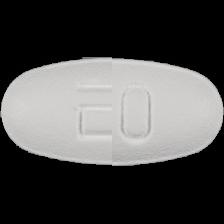0093-2060: (0, 0, 224, 224)
